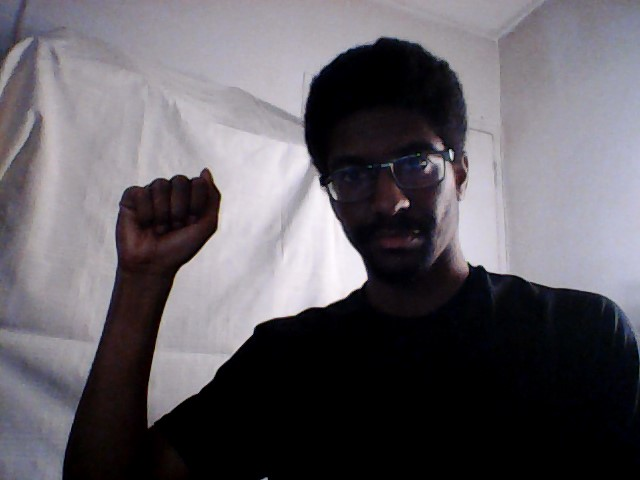a: (111, 165, 228, 263)
